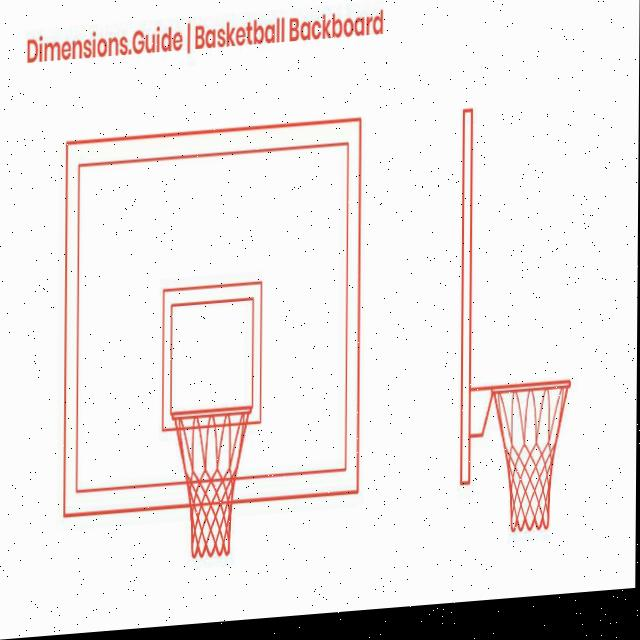hoop: (489, 379, 571, 534), (171, 408, 250, 561)
